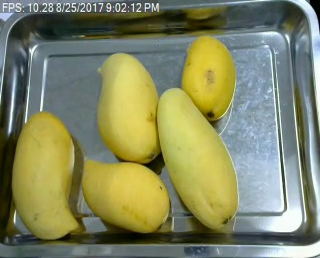Mango: (149, 87, 254, 228), (8, 112, 75, 239), (78, 153, 174, 239), (97, 52, 160, 159), (177, 31, 244, 120)
